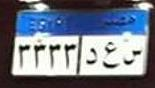3: (61, 42, 78, 70), (47, 42, 62, 69), (32, 42, 47, 69), (17, 42, 31, 70)
ain: (101, 40, 120, 71)
daal: (84, 46, 98, 67)
seen: (122, 45, 143, 68)
